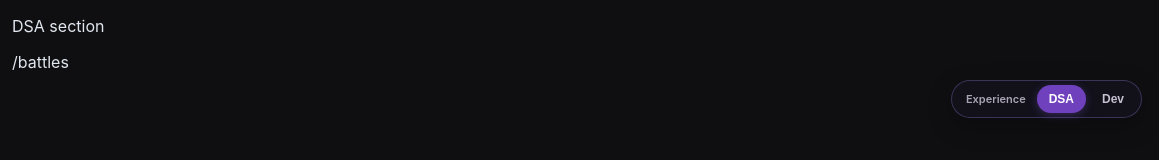
Test case: experience switch › switches battles within its section and supports browser history
Click the button "Dev" at (1113, 99), box [1089,85,1137,113]
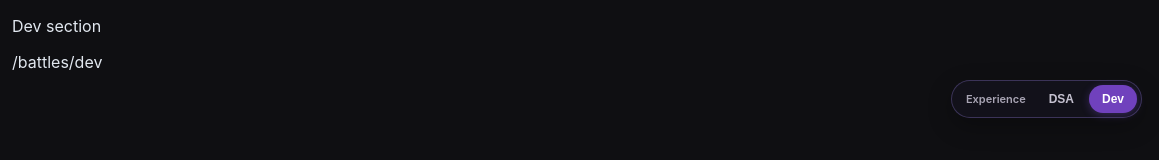
expect the text "Dev section" is shown: met, box [12,16,101,36]
expect the text with test id "location" reads "/battles/dev": met, box [12,52,102,72]
Click the button "DSA" at (1061, 99), box [1037,85,1086,113]
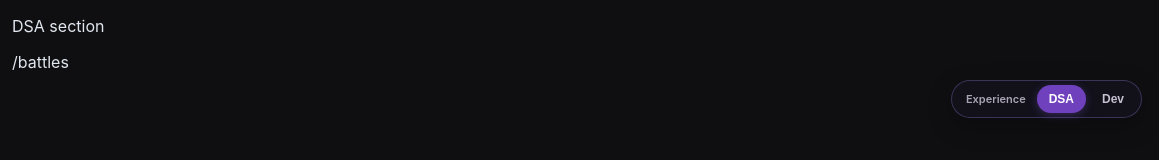
expect the text with test id "location" reads "/battles": met, box [12,52,69,72]
expect the text "DSA section" is shown: met, box [12,16,104,36]
